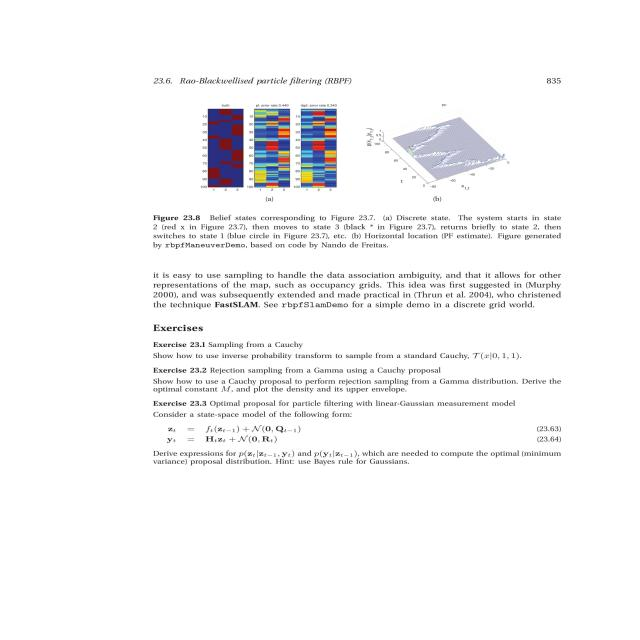diagram: (115, 96, 600, 256)
